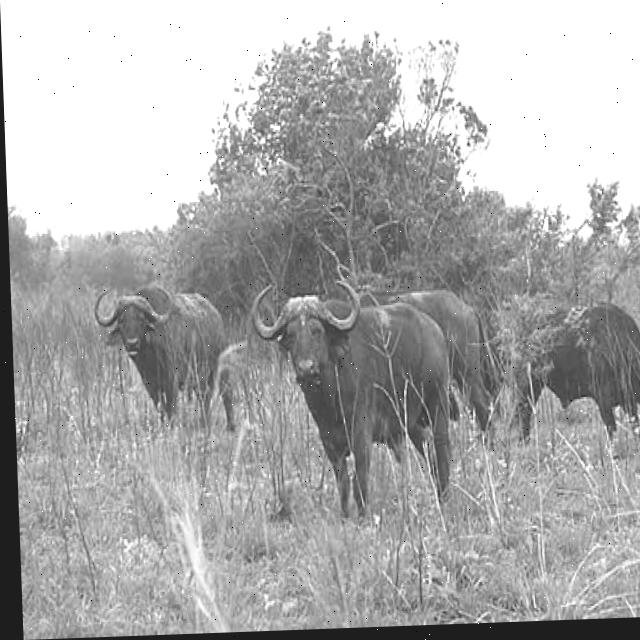Buffalo: (249, 274, 460, 528), (91, 277, 241, 439), (511, 297, 640, 450)
